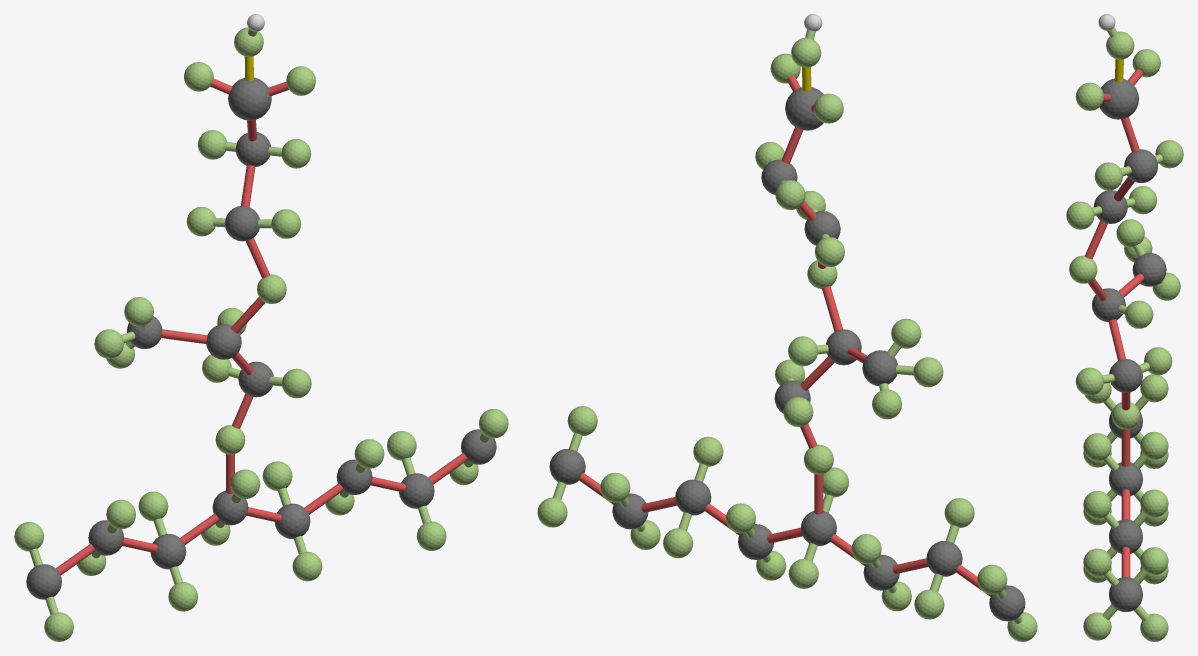
Rendered from nafion_stylised_structure.glb.
3 renders of one model, left to right at view 1: azimuth 30°, elevation 25°; view 2: azimuth 150°, elevation 25°; view 3: azimuth 270°, elevation 25°, orthographic. The views are drawn at different scales.
Parts seen in each view (by area): view 1: Stylised Nafion PFSA chemical structure; view 2: Stylised Nafion PFSA chemical structure; view 3: Stylised Nafion PFSA chemical structure.
Boxes of the visible parts, x1,y1,x2,y2 form: Stylised Nafion PFSA chemical structure: [14, 14, 508, 641]; Stylised Nafion PFSA chemical structure: [537, 14, 1037, 641]; Stylised Nafion PFSA chemical structure: [1066, 14, 1183, 641].
Size of the model in its own units: 5.4 by 6.35 by 1.24.
